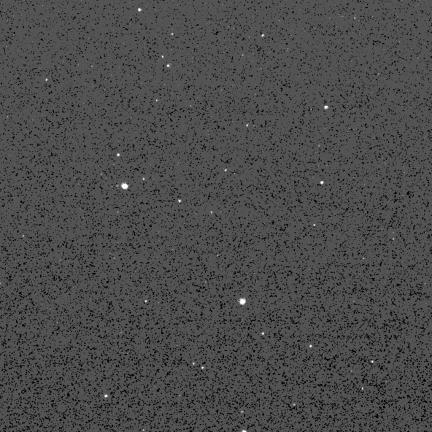blob: (122, 183, 128, 189), (239, 299, 245, 305), (324, 106, 329, 110), (138, 8, 143, 12), (371, 361, 375, 364), (262, 332, 265, 336), (105, 395, 108, 399), (117, 153, 120, 157), (178, 200, 182, 203), (201, 367, 205, 370), (262, 34, 265, 38), (171, 33, 174, 36), (143, 178, 146, 181), (167, 64, 170, 67), (310, 345, 313, 348), (46, 79, 48, 82), (321, 181, 323, 184)
